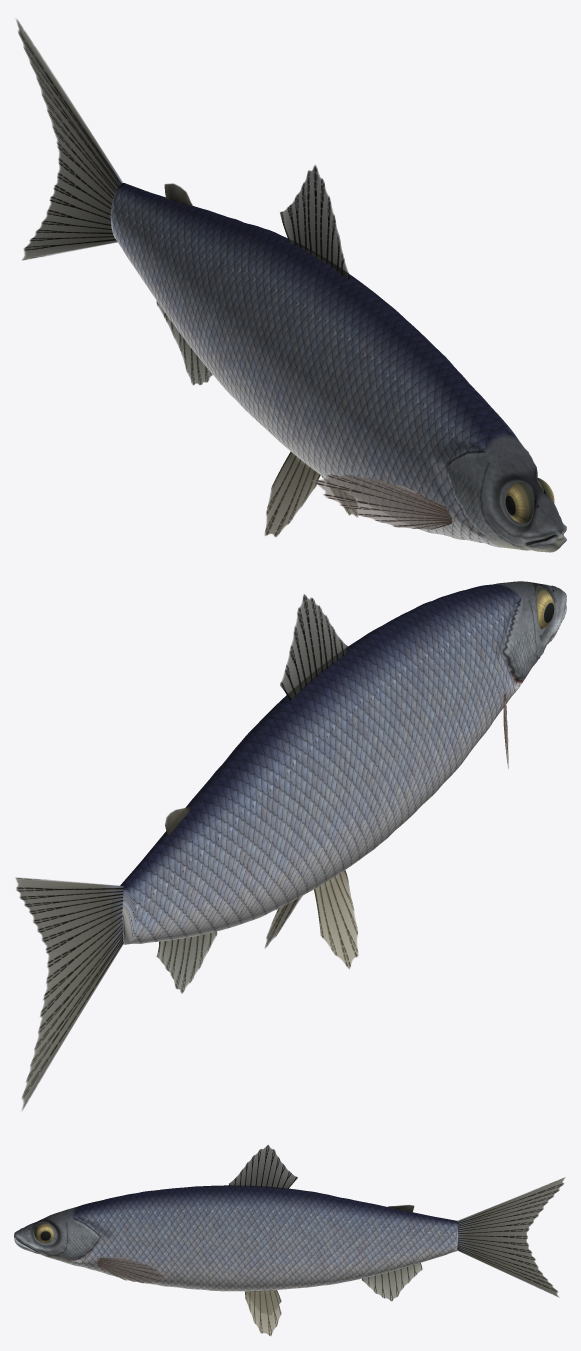
The model's file is sieja.glb.
3 views of the same model, one above another, from view 1: azimuth 30°, elevation 25°; view 2: azimuth 150°, elevation 25°; view 3: azimuth 270°, elevation 25° (orthographic). The views are drawn at different scales.
Visible parts, largest first — view 1: Body, FinCaudal, FinPectoral, FinDorsal1, FinPelvic, FinAnal, EyeLeft; view 2: Body, FinCaudal, FinDorsal1, FinPelvic, FinAnal; view 3: Body, FinCaudal, FinDorsal1, FinPelvic, FinPectoral, FinAnal, EyeRight.
Part boxes in pixels (x1,y1,x2,y2): Body: (110, 183, 566, 552); FinCaudal: (16, 19, 122, 260); FinPectoral: (313, 474, 452, 529); FinDorsal1: (280, 165, 349, 278); FinPelvic: (264, 451, 358, 537); FinAnal: (156, 301, 212, 385); EyeLeft: (505, 481, 534, 523); Body: (120, 581, 566, 944); FinCaudal: (15, 877, 123, 1110); FinDorsal1: (280, 594, 348, 700); FinPelvic: (264, 870, 358, 969); FinAnal: (156, 931, 217, 993); Body: (14, 1185, 458, 1291); FinCaudal: (457, 1177, 565, 1297); FinDorsal1: (229, 1145, 297, 1188); FinPelvic: (245, 1290, 281, 1336); FinPectoral: (97, 1257, 165, 1283); FinAnal: (361, 1263, 422, 1301); EyeRight: (34, 1222, 53, 1243).
Bounding box in the file's own units: 0.2076 × 0.3658 × 0.999.
9 materials, 8 textured.
